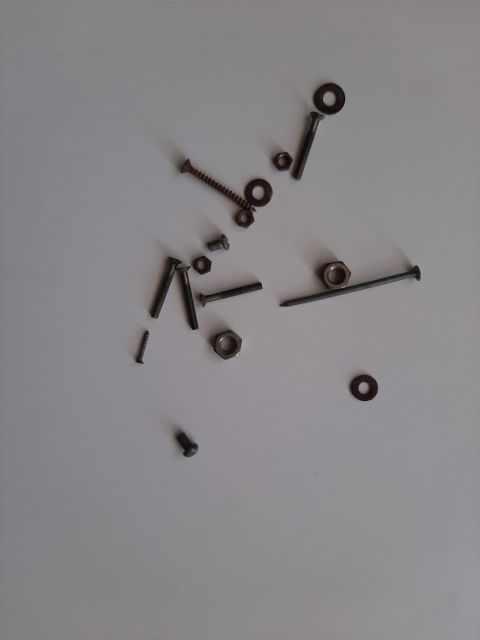gwozdz: (275, 245, 415, 325)
nakretka: (295, 245, 355, 305), (185, 305, 245, 365)
podkladka: (325, 355, 385, 415), (305, 65, 355, 125), (235, 155, 275, 215)
sruba: (275, 95, 335, 185), (125, 245, 185, 325), (155, 245, 205, 335), (185, 265, 265, 305)
